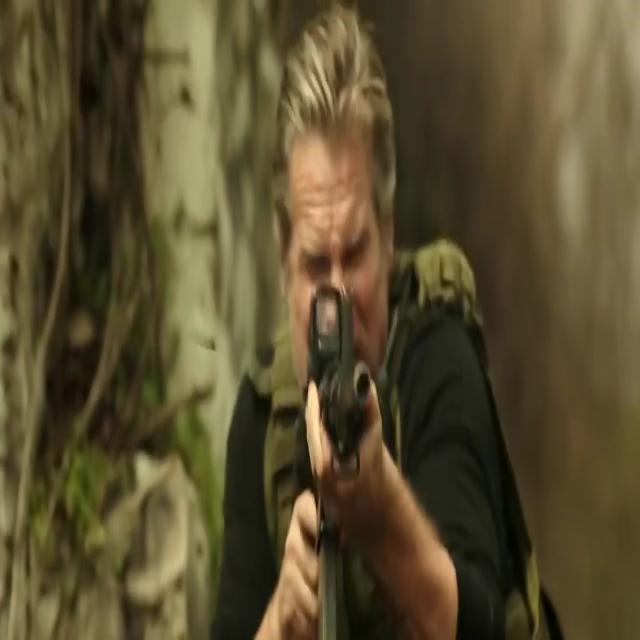Weapon: (294, 299, 371, 576)
